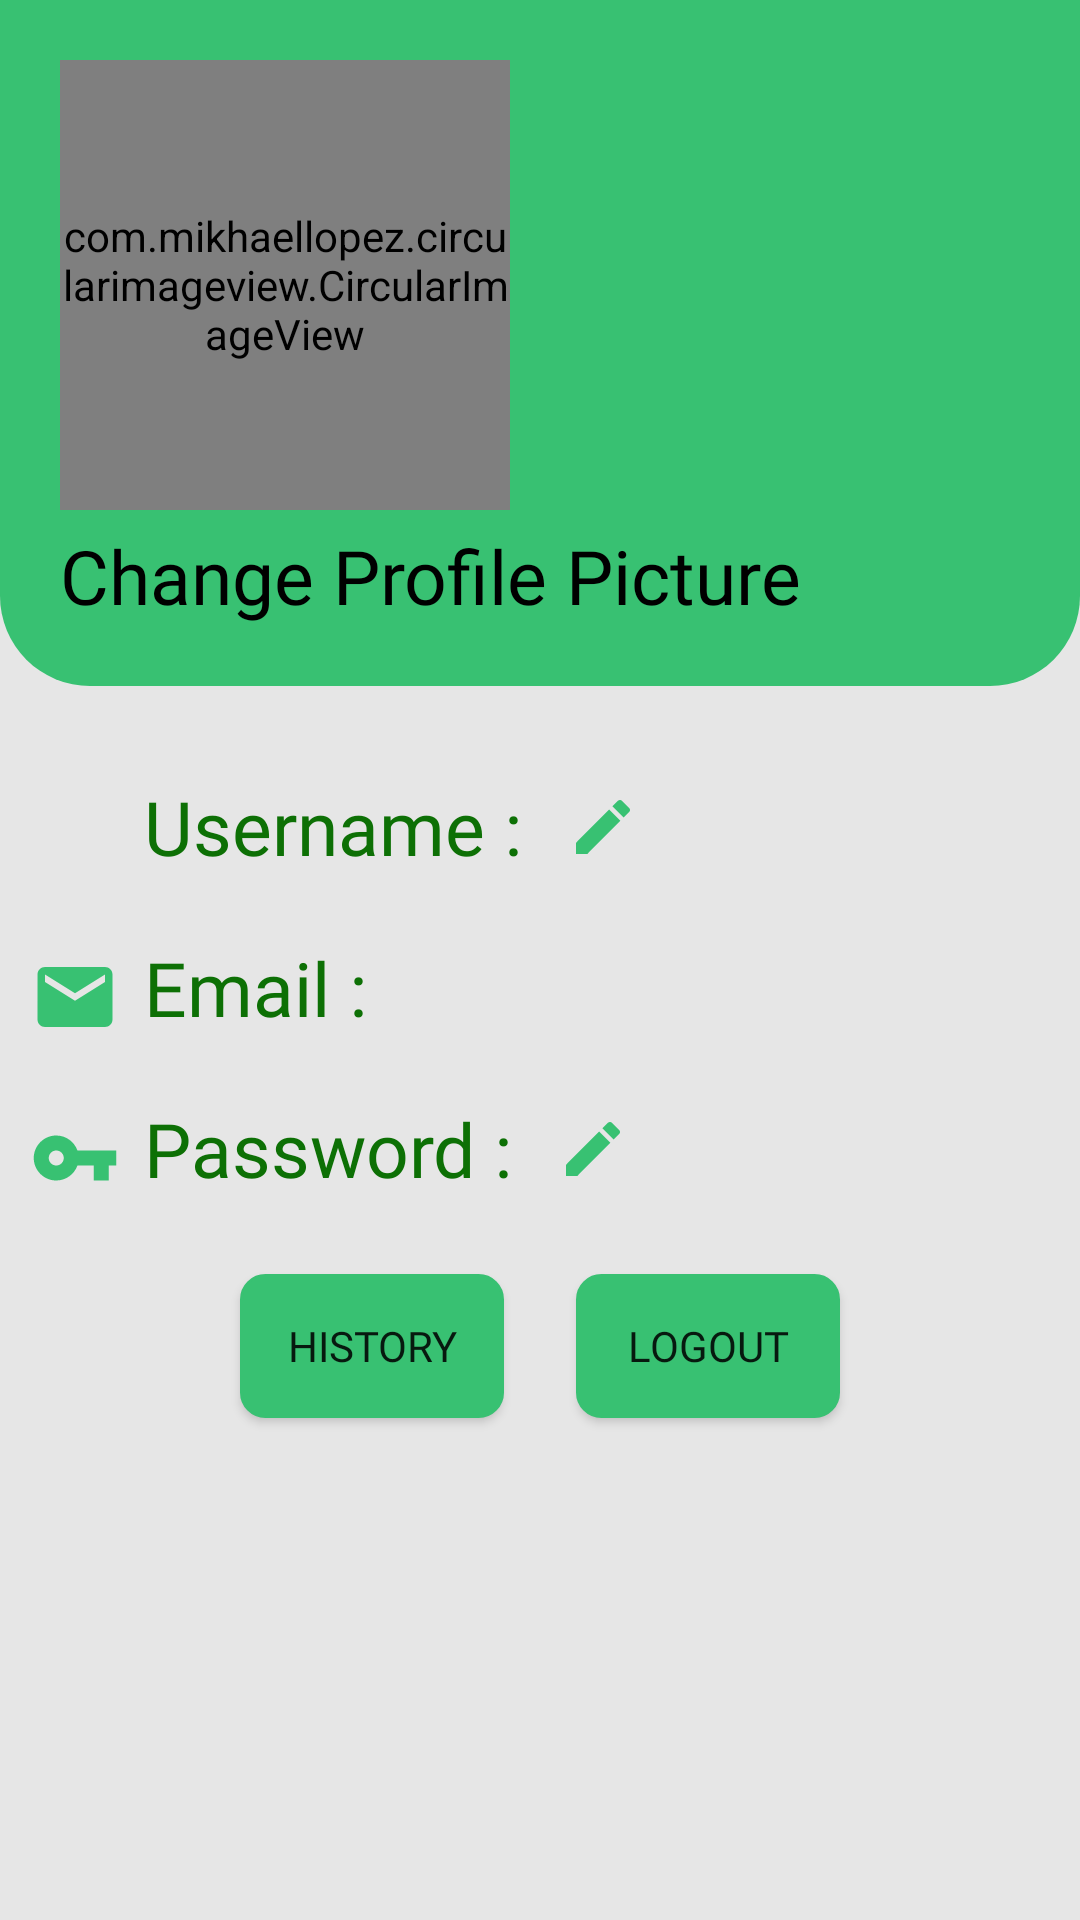

Icons on this 1080w x 1920h Android screen, each with its box as bbox(x1, y1, x2, y2):
edit: bbox(576, 800, 630, 854), bbox(566, 1122, 620, 1176)
vpn key: bbox(33, 1135, 117, 1181)
